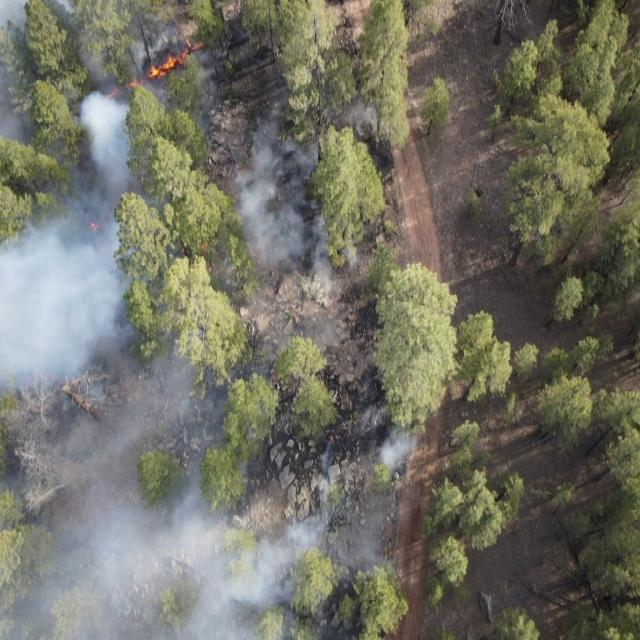fire: (86, 35, 216, 106), (200, 240, 218, 272), (86, 220, 102, 236), (272, 370, 280, 385), (328, 433, 336, 447)
smoke: (0, 359, 418, 640), (1, 164, 172, 404), (0, 0, 241, 162), (232, 103, 388, 295)
